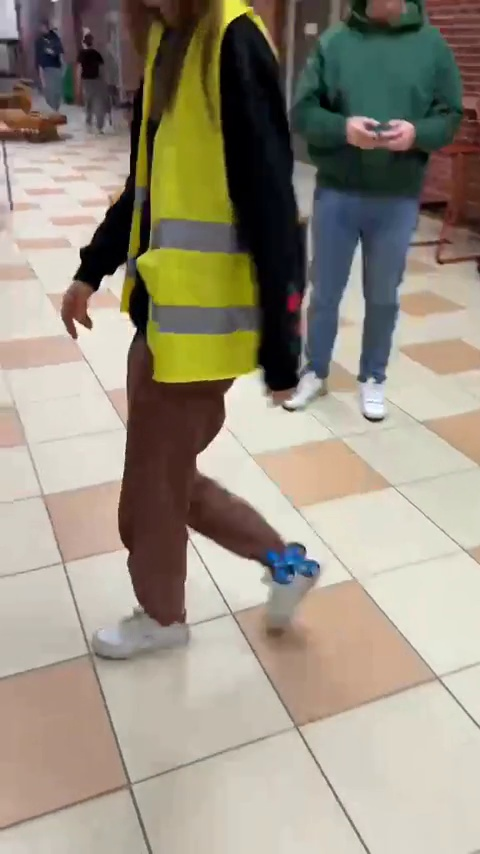drone: (260, 547, 322, 581)
no vest: (314, 2, 460, 433), (29, 18, 66, 118), (77, 33, 109, 128)
vest: (111, 3, 313, 668)
